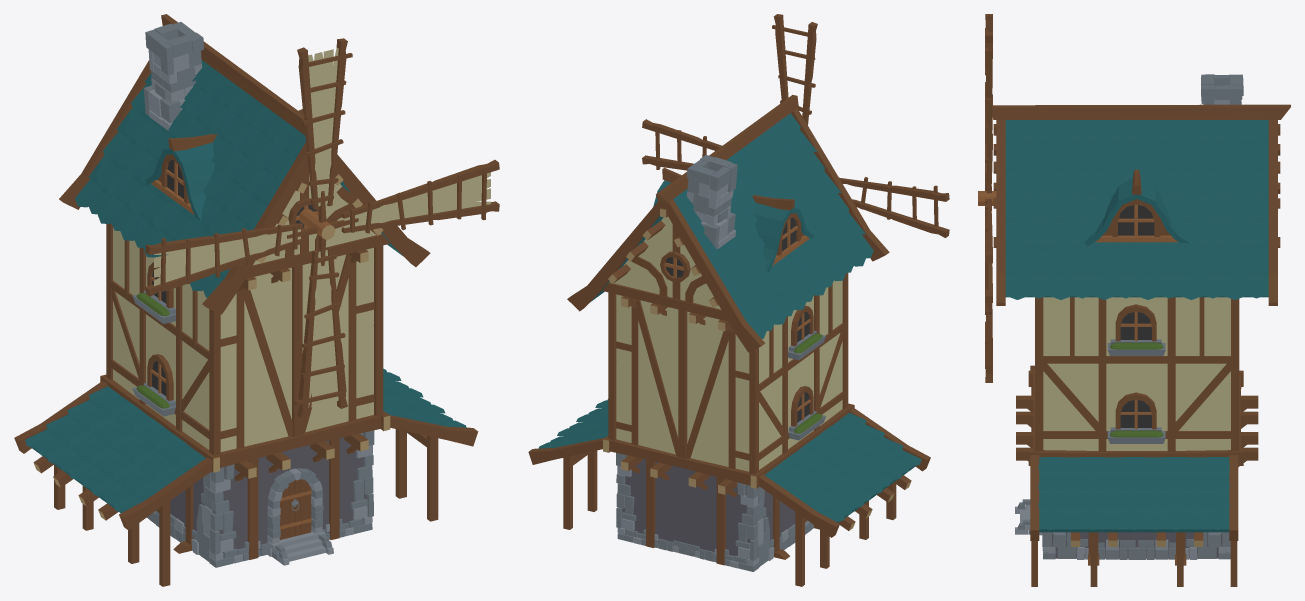
File: Mill.glb
3 views of the same model, side by side, from view 1: azimuth 30°, elevation 25°; view 2: azimuth 150°, elevation 25°; view 3: azimuth 270°, elevation 25° (orthographic). The views are drawn at different scales.
Visible parts, largest first — view 1: Mill; view 2: Mill; view 3: Mill.
Part boxes in pixels (left/top/right/bottom): Mill: left=14, top=14, right=499, bottom=586; Mill: left=528, top=14, right=949, bottom=586; Mill: left=978, top=14, right=1290, bottom=586.
Bounding box in the file's own units: 3.4 × 4.8 × 2.73.
Materials: 1 (1 with a texture image).
